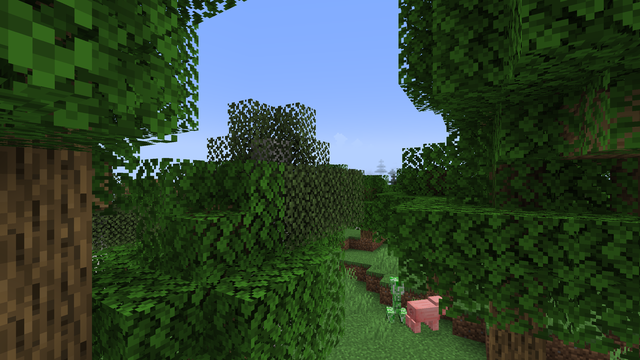cochons: (408, 296, 436, 336)
creepers: (387, 273, 405, 324)
